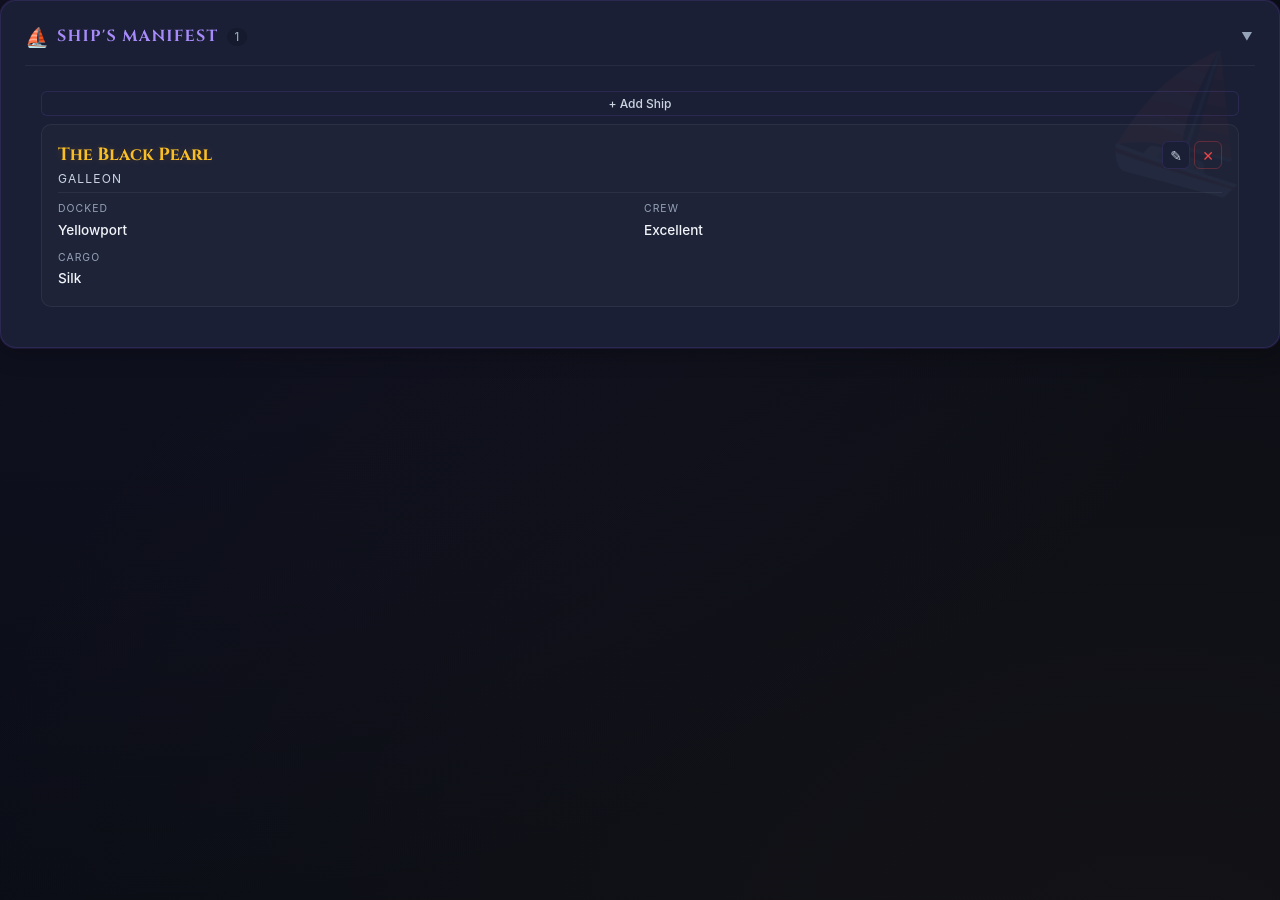
Scenario: ShipsManifest › opens the add ship form when clicking "+ Add Ship"
This screenshot has width=1280, height=900.
Click the button "+ Add Ship": x=640, y=104 left=41, top=91, right=1239, bottom=116
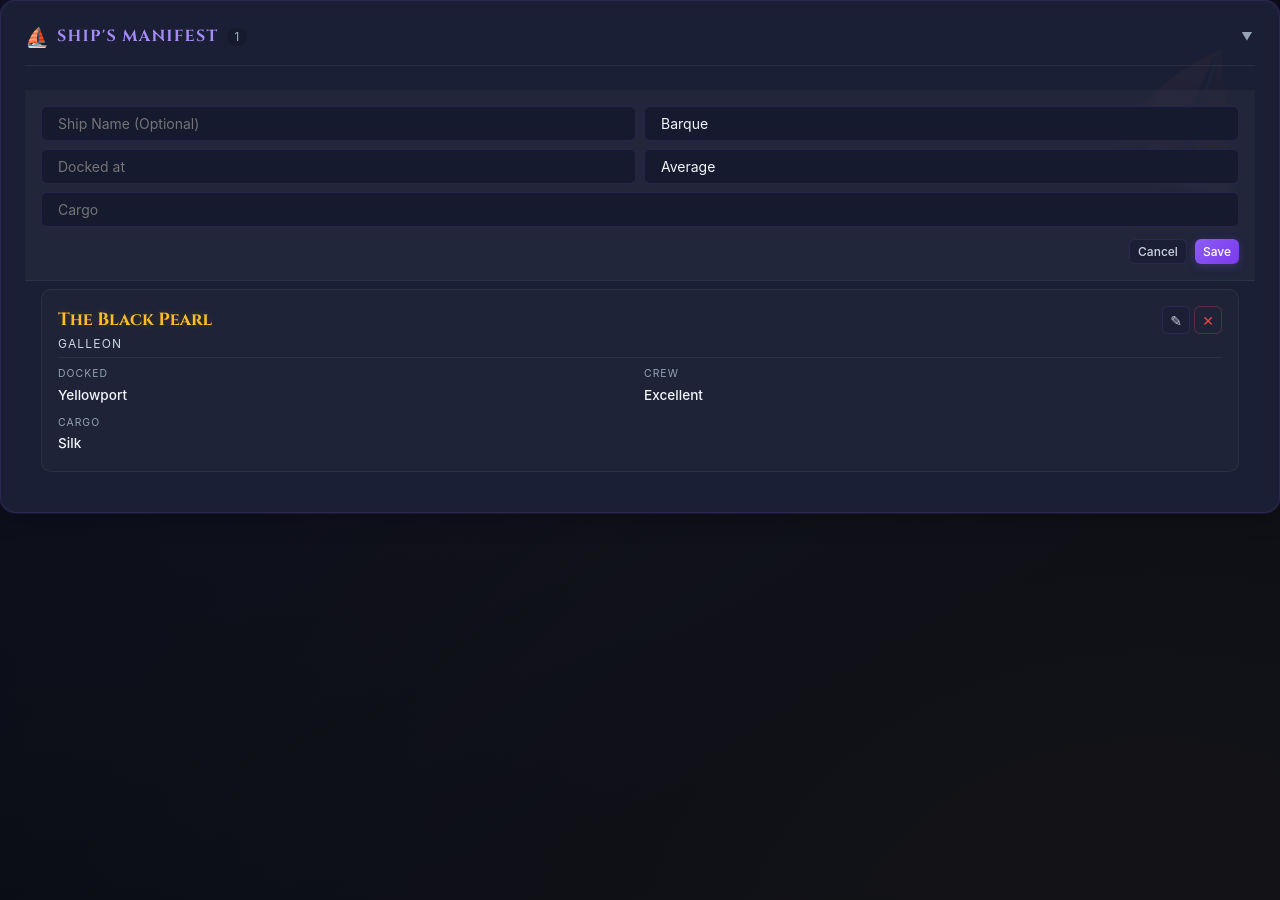
Expected: the field with placeholder "Ship Name (Optional)" is shown, left=41, top=106, right=636, bottom=141
Expected: the button "Save" is shown, left=1195, top=239, right=1239, bottom=264
